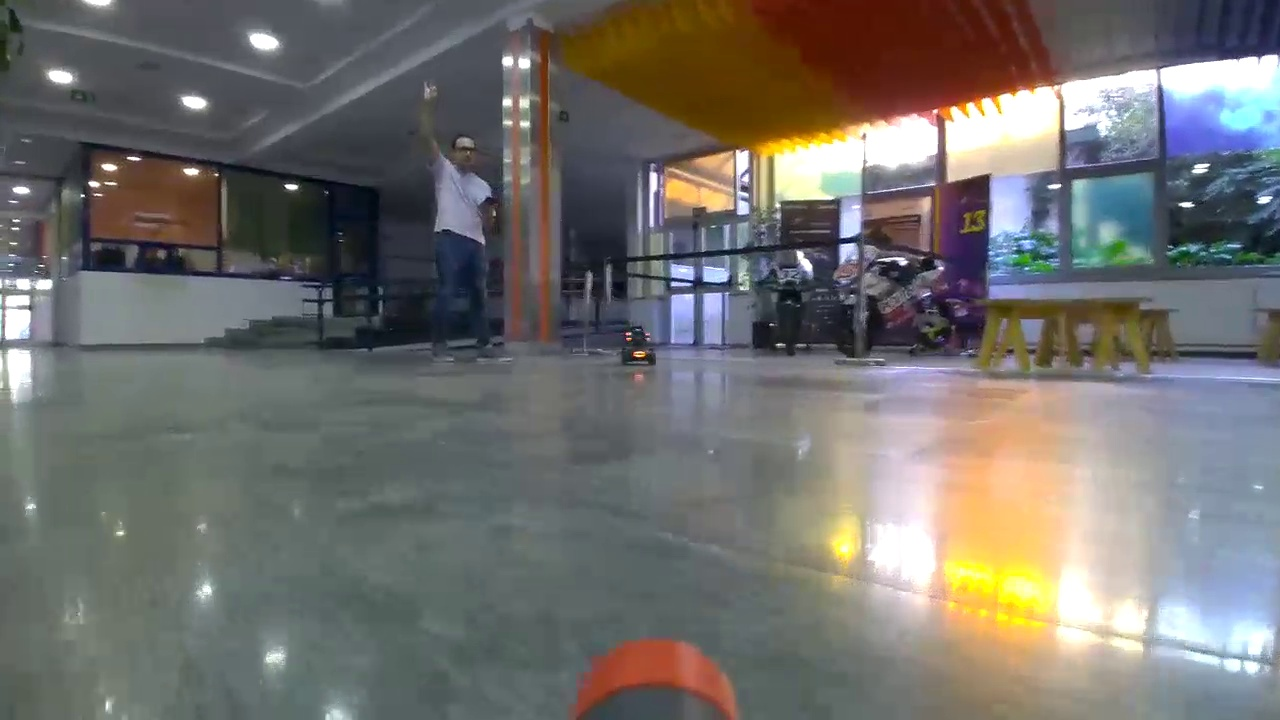robot: (621, 326, 657, 365)
